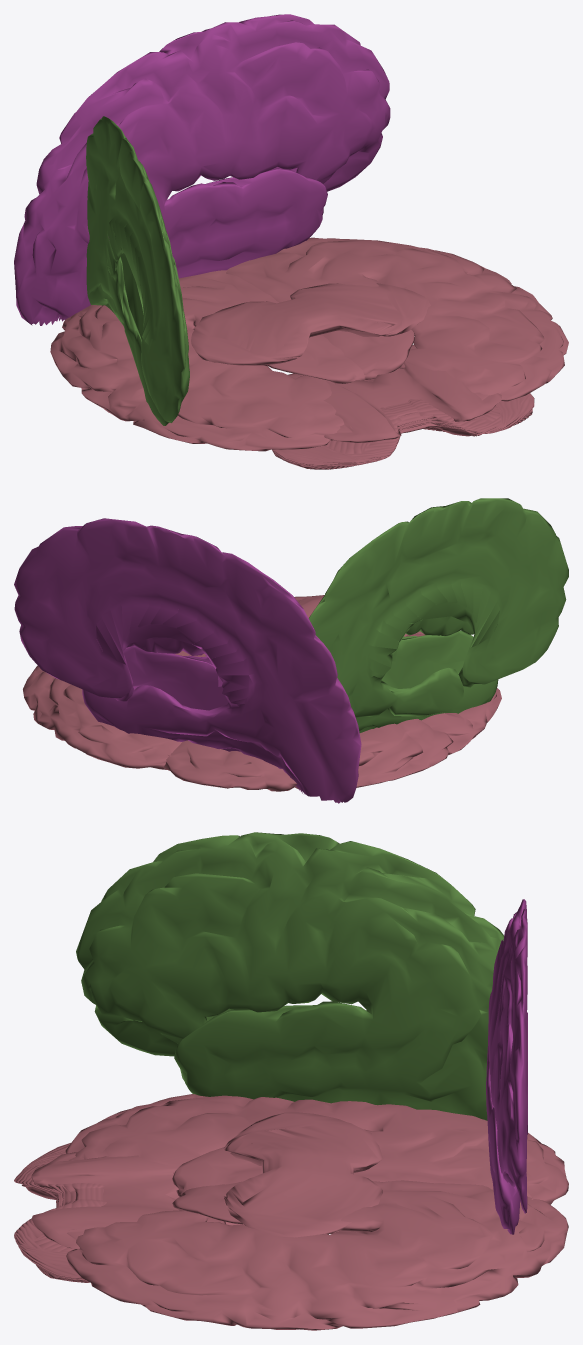
The model's file is BRAIN1.fbx.
3 views of the same model, one above another, from view 1: azimuth 30°, elevation 25°; view 2: azimuth 150°, elevation 25°; view 3: azimuth 270°, elevation 25° (orthographic). The views are drawn at different scales.
Parts seen in each view (by area): view 1: Brain_Part_06.001, Brain_Part_06, Brain_Part_04, Brain_Part_04.001, Brain_Part_02.001, Brain_Part_05, Brain_Part_02; view 2: Brain_Part_06.001, Brain_Part_04.001, Brain_Part_04, Brain_Part_06; view 3: Brain_Part_04.001, Brain_Part_06, Brain_Part_04, Brain_Part_02.001, Brain_Part_06.001, Brain_Part_05, Brain_Part_02.
Boxes of the visible parts, x1=… form: Brain_Part_06.001: x1=14, y1=14, x2=390, y2=325; Brain_Part_06: x1=226, y1=237, x2=568, y2=401; Brain_Part_04: x1=50, y1=270, x2=366, y2=451; Brain_Part_04.001: x1=86, y1=116, x2=189, y2=425; Brain_Part_02.001: x1=191, y1=283, x2=430, y2=365; Brain_Part_05: x1=288, y1=344, x2=502, y2=442; Brain_Part_02: x1=272, y1=393, x2=534, y2=469; Brain_Part_06.001: x1=14, y1=518, x2=361, y2=803; Brain_Part_04.001: x1=309, y1=498, x2=568, y2=732; Brain_Part_04: x1=163, y1=633, x2=501, y2=791; Brain_Part_06: x1=23, y1=666, x2=181, y2=769; Brain_Part_04.001: x1=76, y1=832, x2=504, y2=1120; Brain_Part_06: x1=66, y1=1180, x2=568, y2=1330; Brain_Part_04: x1=65, y1=1094, x2=568, y2=1204; Brain_Part_02.001: x1=223, y1=1112, x2=383, y2=1237; Brain_Part_06.001: x1=486, y1=899, x2=527, y2=1234; Brain_Part_05: x1=31, y1=1152, x2=225, y2=1248; Brain_Part_02: x1=14, y1=1143, x2=106, y2=1282.
Size of the model in its own units: 548 by 322 by 522.
